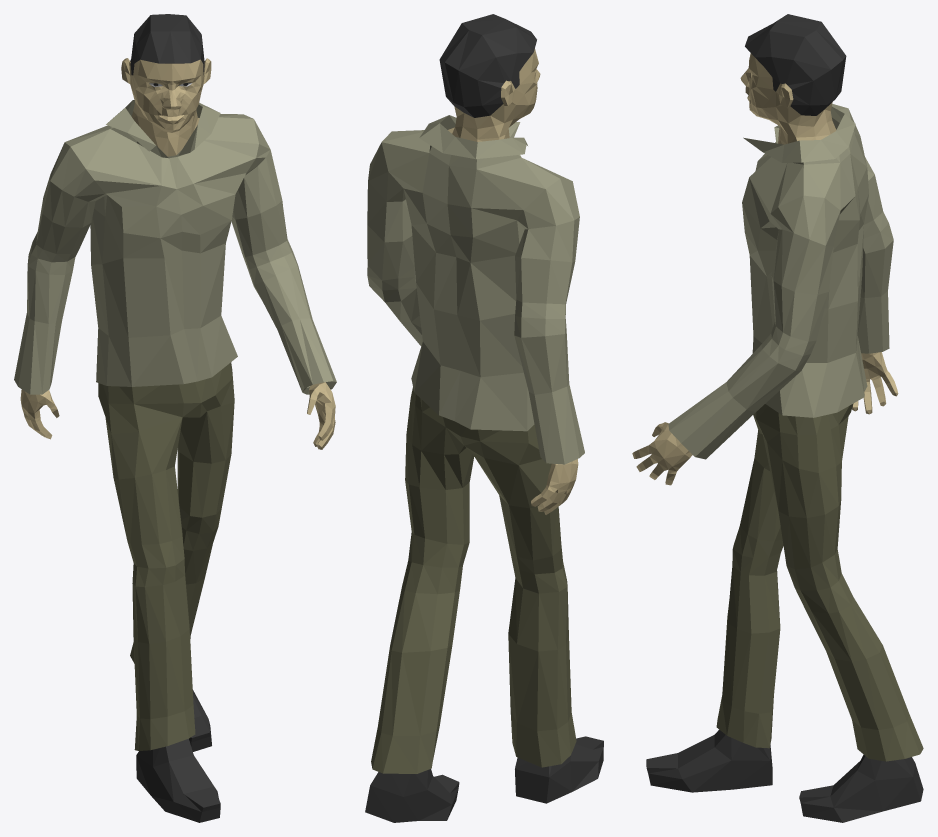
Rendered from person5.dae.
3 renders of one model, left to right at view 1: azimuth 30°, elevation 25°; view 2: azimuth 150°, elevation 25°; view 3: azimuth 270°, elevation 25°, orthographic. The views are drawn at different scales.
Visible parts, largest first — view 1: material_Shape_Coord_Material__5__Surf, material_Shape_Coord_Material__1__Surf, material_Shape_Coord_Material__6__Surf, material_Shape_Coord_Material__2__Surf, material_Shape_Coord_Material__4__Surf; view 2: material_Shape_Coord_Material__5__Surf, material_Shape_Coord_Material__1__Surf, material_Shape_Coord_Material__2__Surf, material_Shape_Coord_Material__4__Surf, material_Shape_Coord_Material__6__Surf; view 3: material_Shape_Coord_Material__5__Surf, material_Shape_Coord_Material__1__Surf, material_Shape_Coord_Material__2__Surf, material_Shape_Coord_Material__6__Surf, material_Shape_Coord_Material__4__Surf.
Part boxes in pixels (x1,y1,x2,y2): material_Shape_Coord_Material__5__Surf: (14,100,336,394); material_Shape_Coord_Material__1__Surf: (98,362,234,750); material_Shape_Coord_Material__6__Surf: (20,58,335,449); material_Shape_Coord_Material__2__Surf: (136,83,220,822); material_Shape_Coord_Material__4__Surf: (130,14,204,75); material_Shape_Coord_Material__5__Surf: (367,115,584,464); material_Shape_Coord_Material__1__Surf: (371,387,576,773); material_Shape_Coord_Material__2__Surf: (365,736,603,822); material_Shape_Coord_Material__4__Surf: (439,14,536,117); material_Shape_Coord_Material__6__Surf: (448,49,578,514); material_Shape_Coord_Material__5__Surf: (668,104,893,459); material_Shape_Coord_Material__1__Surf: (716,403,923,761); material_Shape_Coord_Material__2__Surf: (646,729,923,822); material_Shape_Coord_Material__6__Surf: (632,53,898,485); material_Shape_Coord_Material__4__Surf: (745,14,846,115).
Bounding box in the file's own units: 7.14 × 21.15 × 7.23.
